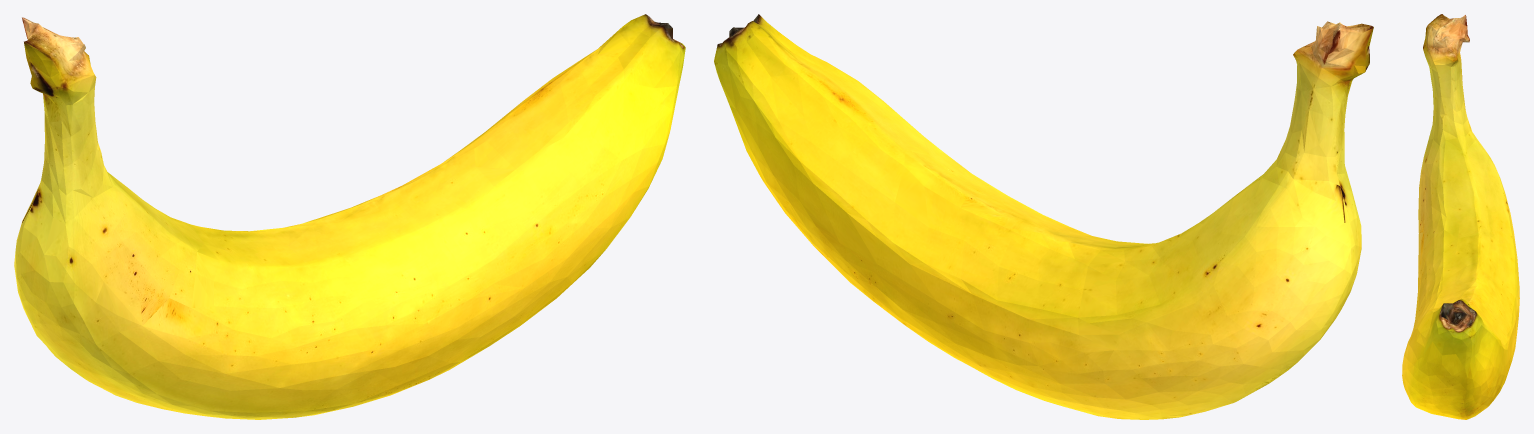
The model's file is banana-transformed.glb.
The picture shows the model from 3 angles, left to right: view 1: azimuth 30°, elevation 25°; view 2: azimuth 150°, elevation 25°; view 3: azimuth 270°, elevation 25°; orthographic projection. The views are drawn at different scales.
Visible parts, largest first — view 1: Object_2; view 2: Object_2; view 3: Object_2.
Part boxes in pixels (x1,y1,x2,y2): Object_2: (14, 14, 685, 419); Object_2: (714, 14, 1373, 419); Object_2: (1402, 14, 1519, 419).
Size of the model in its own units: 6.79 by 4.44 by 1.63.
Materials: 1 (1 with a texture image).
